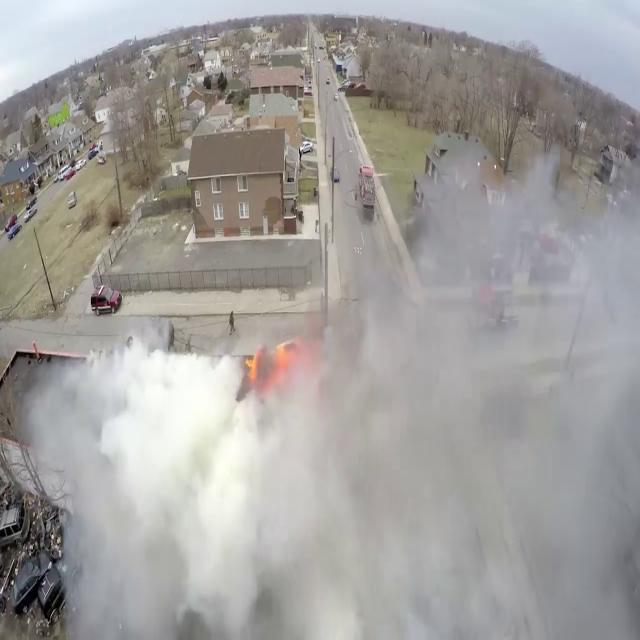Smoke: (9, 158, 640, 612)
